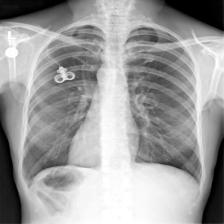normal: (21, 21, 203, 193)
